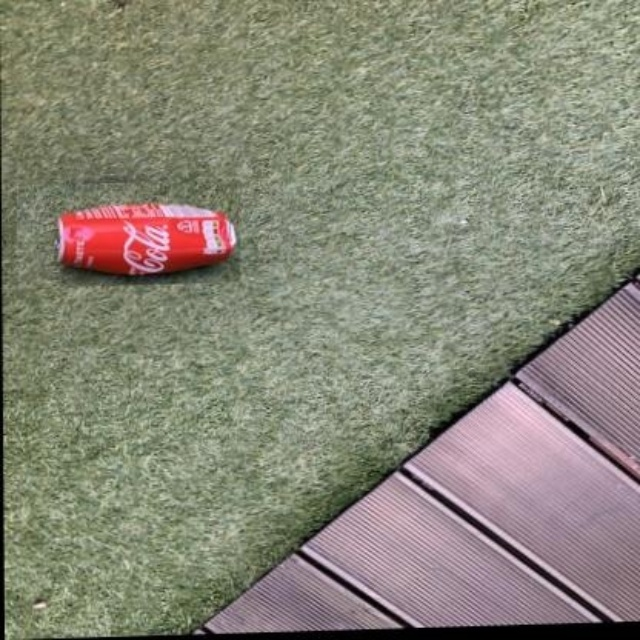trash: (58, 203, 235, 274)
